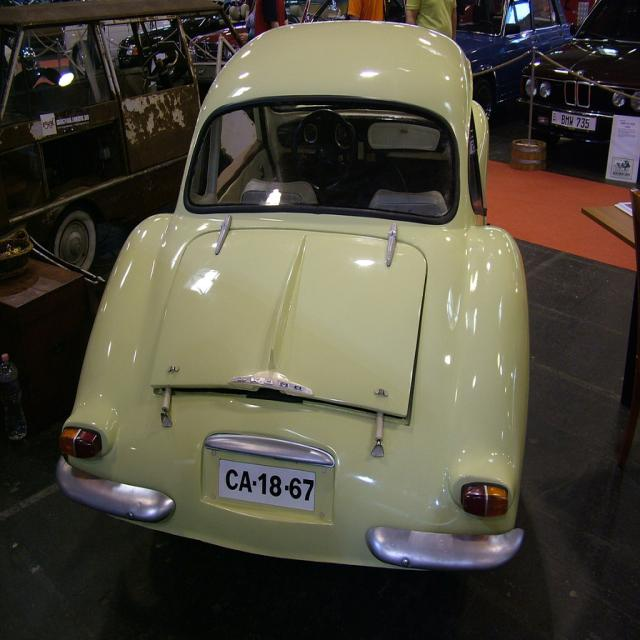car: (57, 18, 527, 571)
